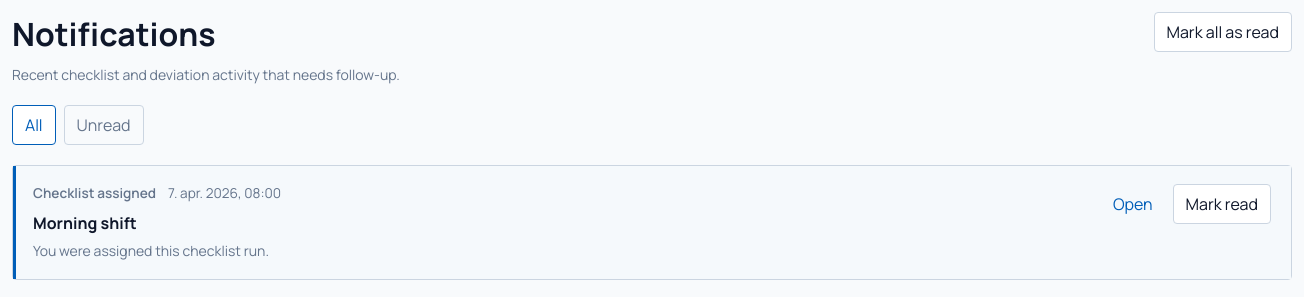
Test: NotificationsPage › clears the list when marking all unread notifications as read
The image size is (1304, 297).
Click the button with class "filter-chip" showing "Unread". click: (104, 125)
box: [64,105,144,145]
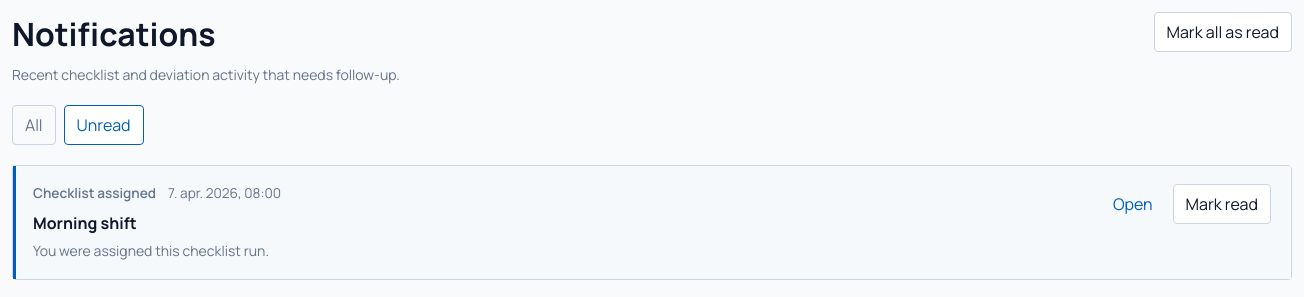
Expected: the number of buttons with class "notification-read-button" is 1, [1173,184,1271,224]
Click the button with class "mark-all-button". click: (1223, 32)
box: [1154,12,1292,52]
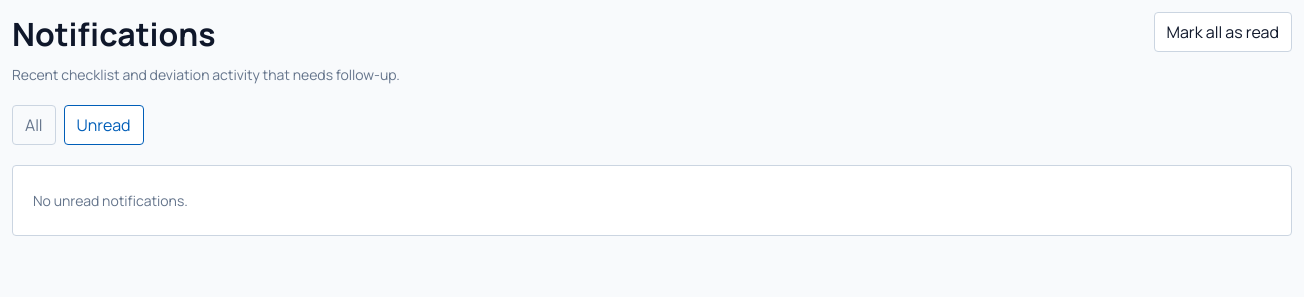
Now the text "No unread notifications." is shown, box [33,191,188,210]
